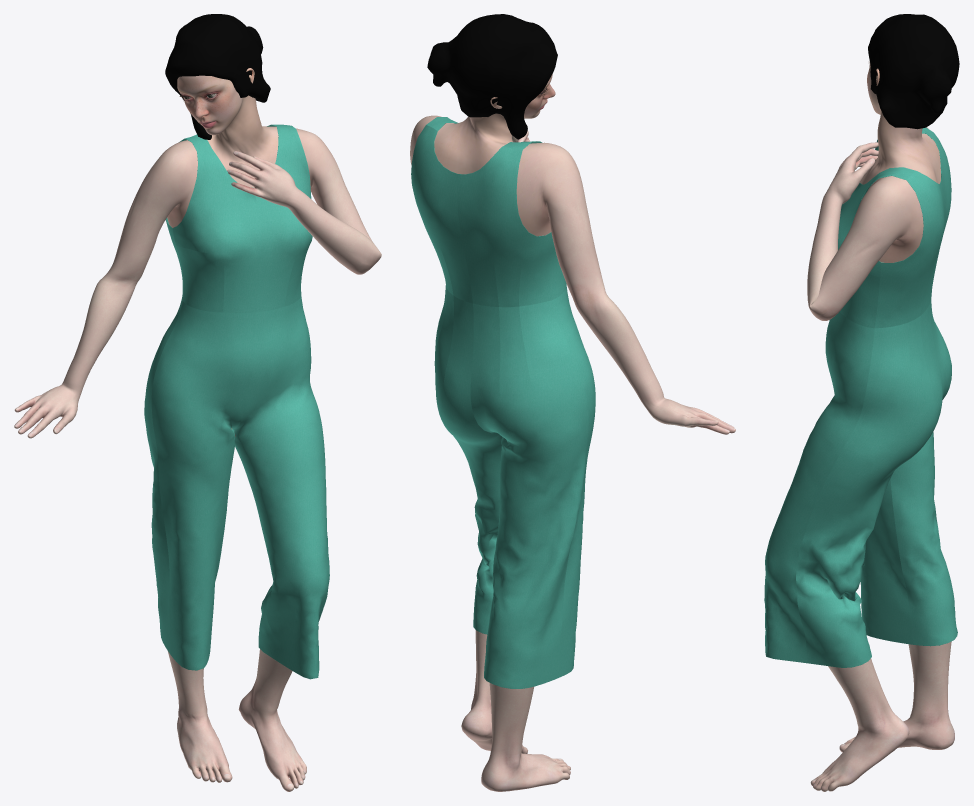
The model's file is Dramatic.obj.
3 views of the same model, side by side, from view 1: azimuth 30°, elevation 25°; view 2: azimuth 150°, elevation 25°; view 3: azimuth 270°, elevation 25° (orthographic). The views are drawn at different scales.
Bounding box in the file's own units: 813 × 1767 × 414.
